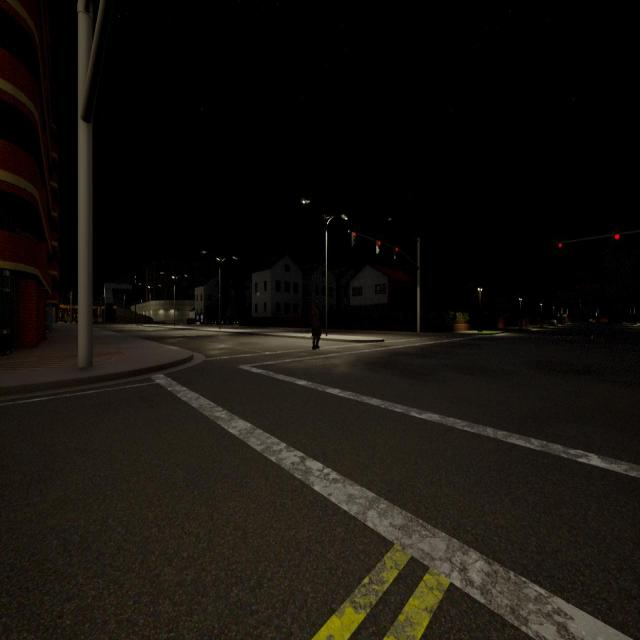Pedestrian: (311, 304, 321, 349)
traffic_light: (376, 240, 381, 252), (394, 247, 398, 259), (352, 233, 356, 245), (614, 234, 620, 240), (558, 243, 563, 248)
